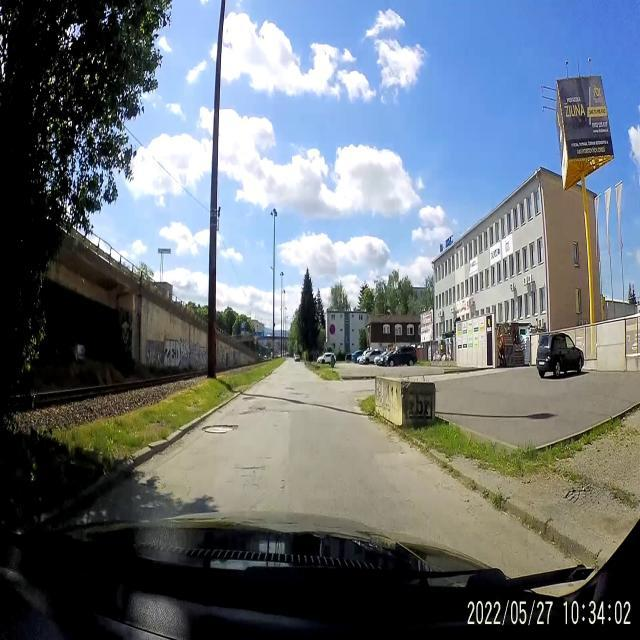Manhole: (200, 424, 240, 438)
Pothole: (239, 404, 269, 418)
